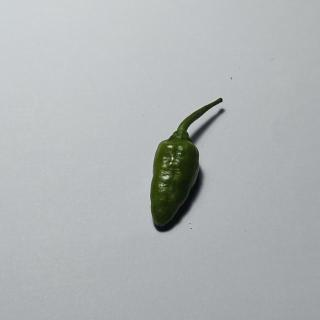Cabai Hijau: (146, 96, 228, 231)
